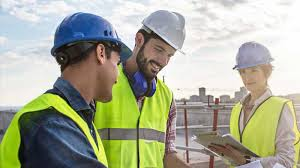hard hat: (53, 11, 132, 62), (142, 10, 186, 55), (233, 41, 275, 70)
high-vis: (93, 64, 175, 168), (2, 94, 108, 168), (231, 90, 300, 167)
